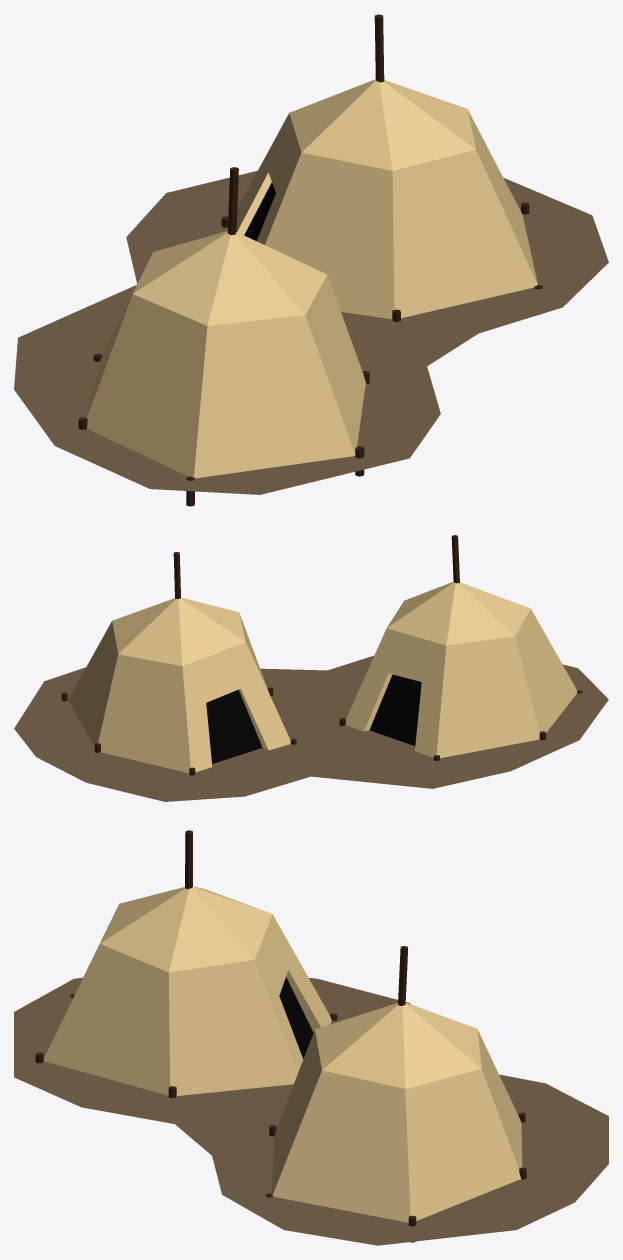
The model's file is MedTentFinal.fbx.
The picture shows the model from 3 angles, top to bottom: view 1: azimuth 30°, elevation 25°; view 2: azimuth 150°, elevation 25°; view 3: azimuth 270°, elevation 25°; orthographic projection. The views are drawn at different scales.
Visible parts, largest first — view 1: Cone.005; view 2: Cone.005; view 3: Cone.005.
Part boxes in pixels (x1,y1,x2,y2): Cone.005: (14,14,608,506); Cone.005: (14,535,608,801); Cone.005: (14,830,608,1245).
Bounding box in the file's own units: 55.47 × 21.75 × 50.
